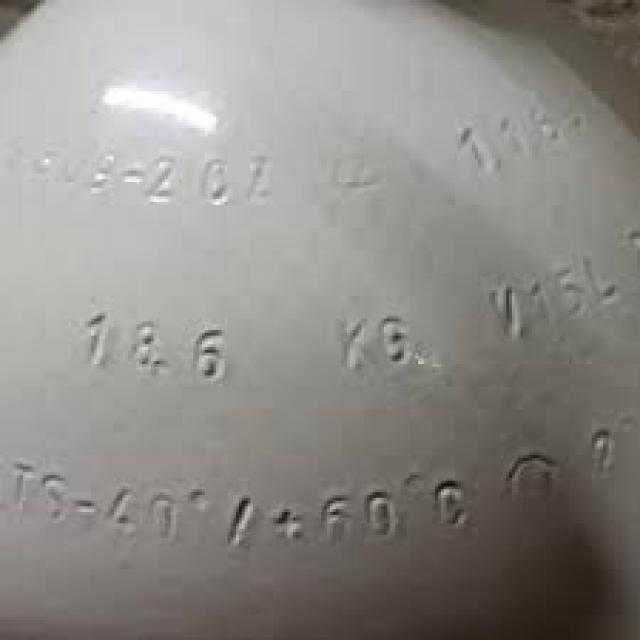ocr: (4, 95, 639, 587)
